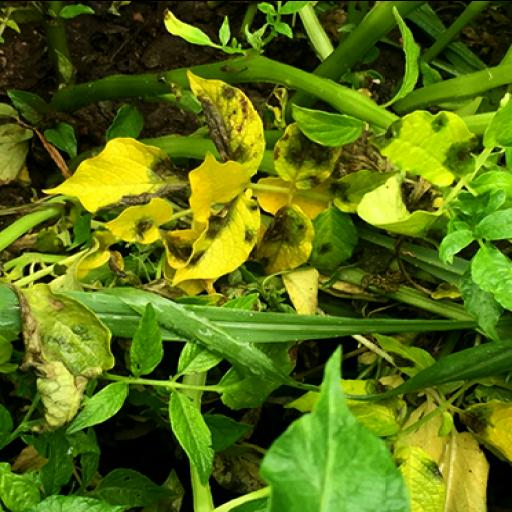disease_tomato: (8, 278, 120, 428), (34, 137, 196, 215), (168, 184, 266, 290), (181, 68, 269, 180), (378, 104, 482, 190), (271, 122, 348, 190), (250, 202, 314, 279), (106, 194, 188, 250)
